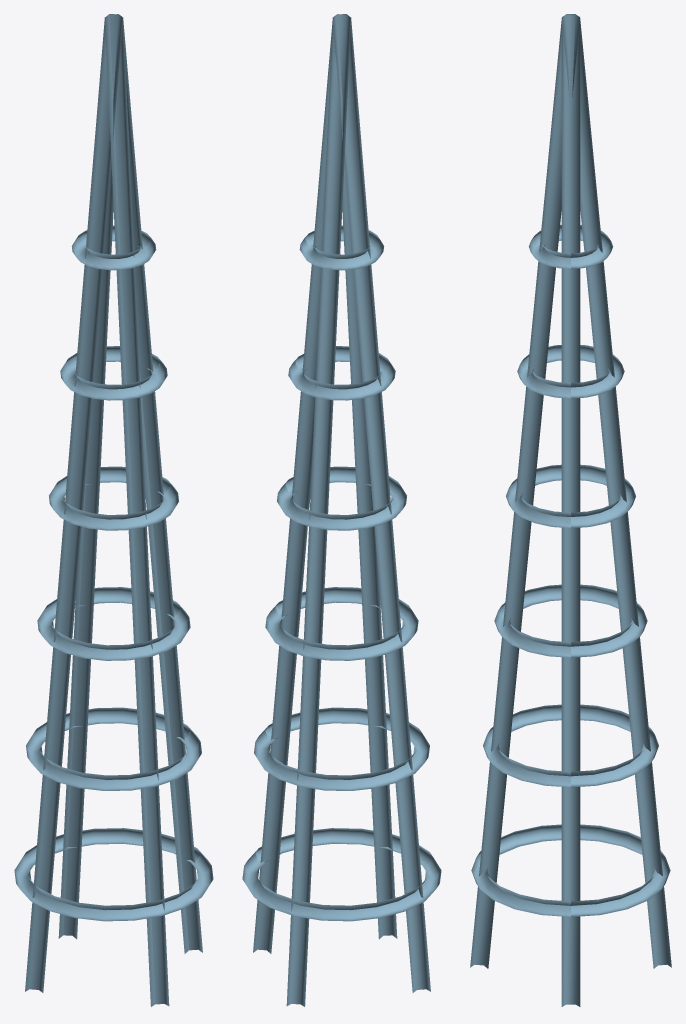
The model's file is work-signature.gltf.
3 renders of one model, left to right at view 1: azimuth 30°, elevation 25°; view 2: azimuth 150°, elevation 25°; view 3: azimuth 270°, elevation 25°, orthographic.
Parts seen in each view (by area): view 1: work-signature; view 2: work-signature; view 3: work-signature.
Part boxes in pixels (bbox=[...]): work-signature: bbox=[14, 14, 213, 1006]; work-signature: bbox=[242, 14, 441, 1006]; work-signature: bbox=[470, 14, 671, 1006].
Bounding box in the file's own units: 0.6083 × 3.2 × 0.6158.
